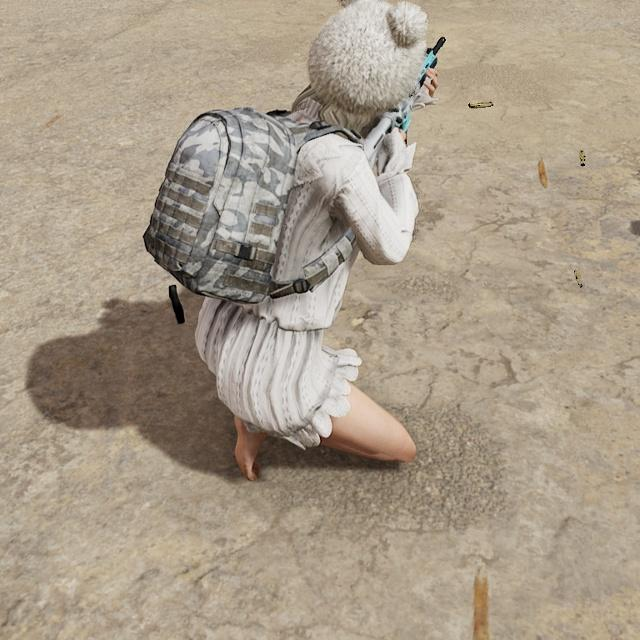head: (295, 0, 440, 165)
people: (155, 0, 449, 495)
